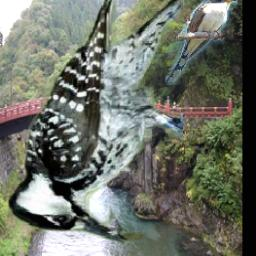Cuckoo: (165, 0, 238, 85)
Woodpecker: (6, 0, 182, 244)
